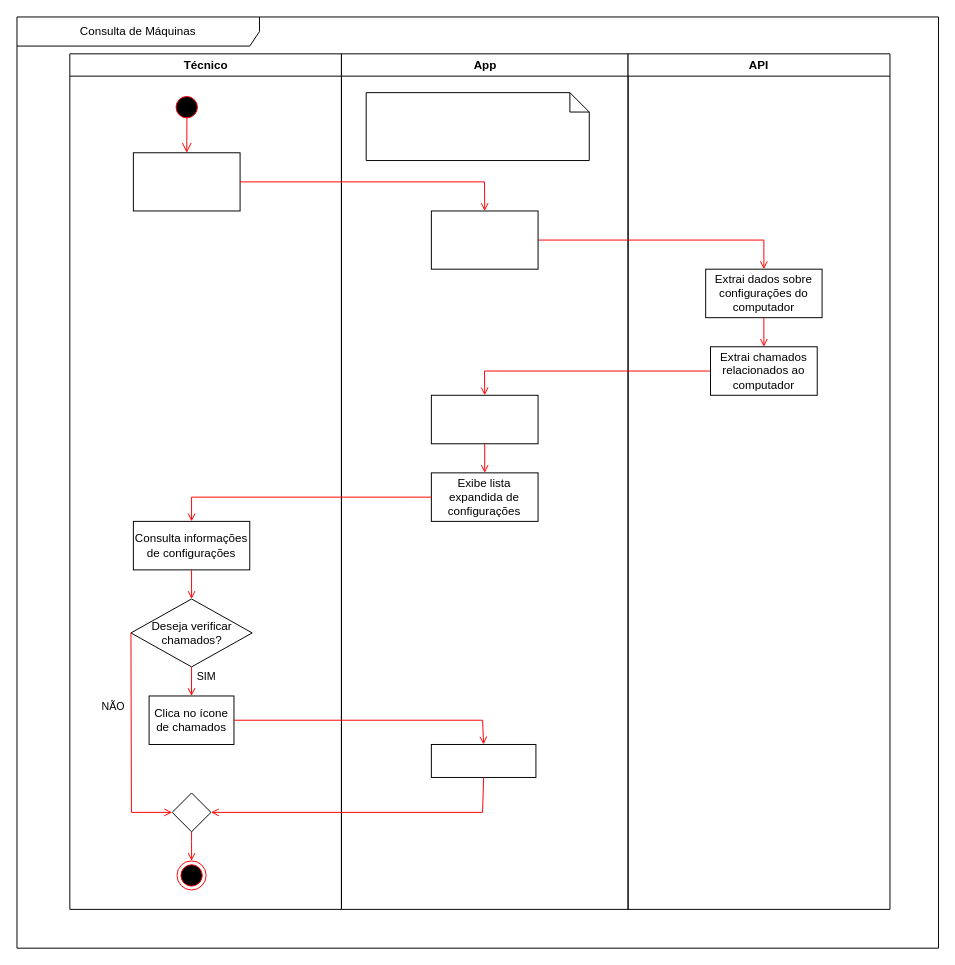
The diagram is 955 pixels wide and 965 high, and some of its shapes have lost their labels. Each missing label, with the box of its shape:
<<Precondição>> Ter executado a atividade "Consulta de equipamentos em unidades": (365, 92, 589, 161)
Carrega icones: (430, 210, 538, 269)
Carrega listas de chamados e lista de configuações: (430, 394, 538, 444)
Expande lista de chamados: (430, 744, 536, 777)
Seleciona a máquina a ser consultada da unidade: (132, 152, 240, 211)
